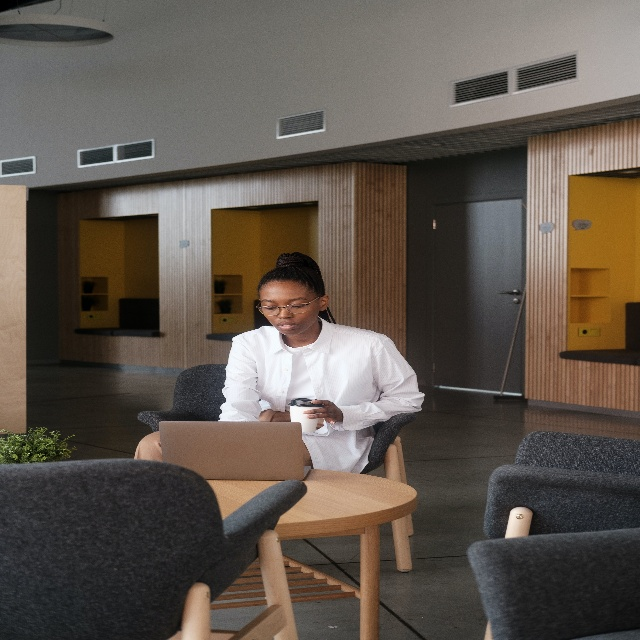Gafas: (256, 297, 320, 317)
Sin_guantes: (303, 397, 342, 425)
